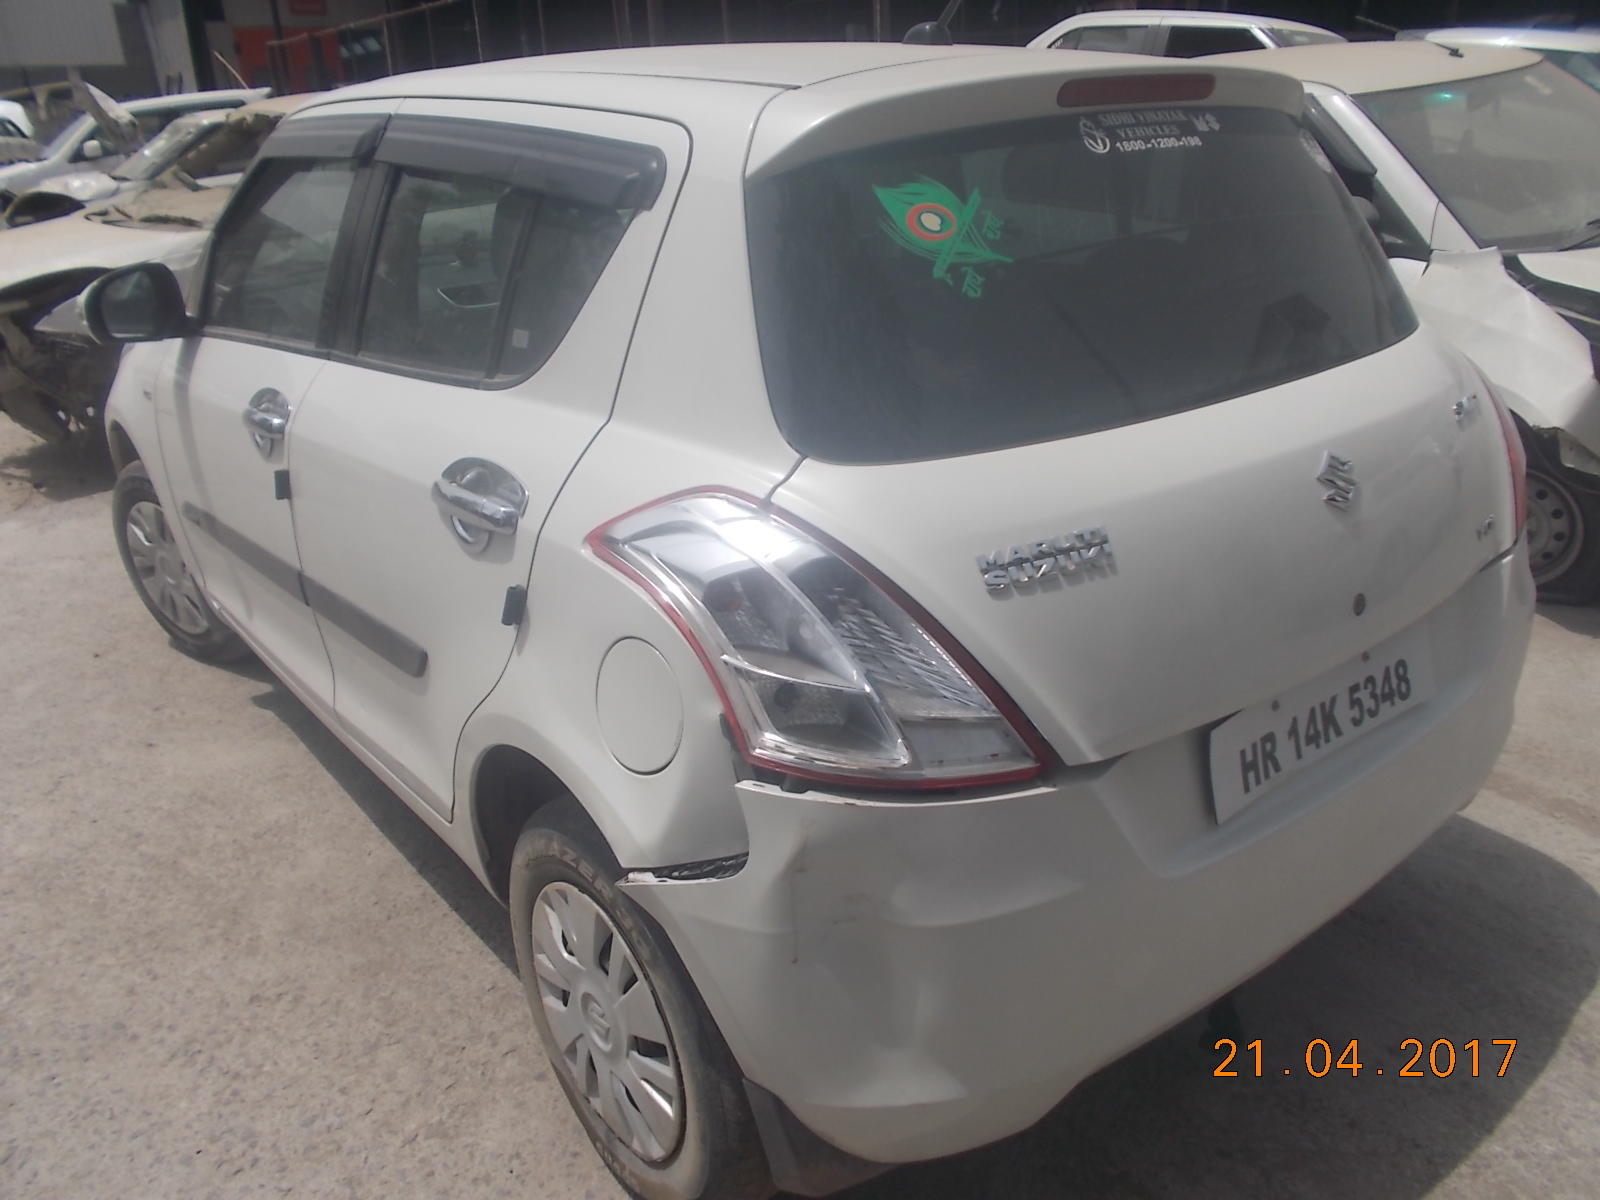Dent: (767, 834, 979, 1103)
Dislocation: (615, 814, 756, 908)
